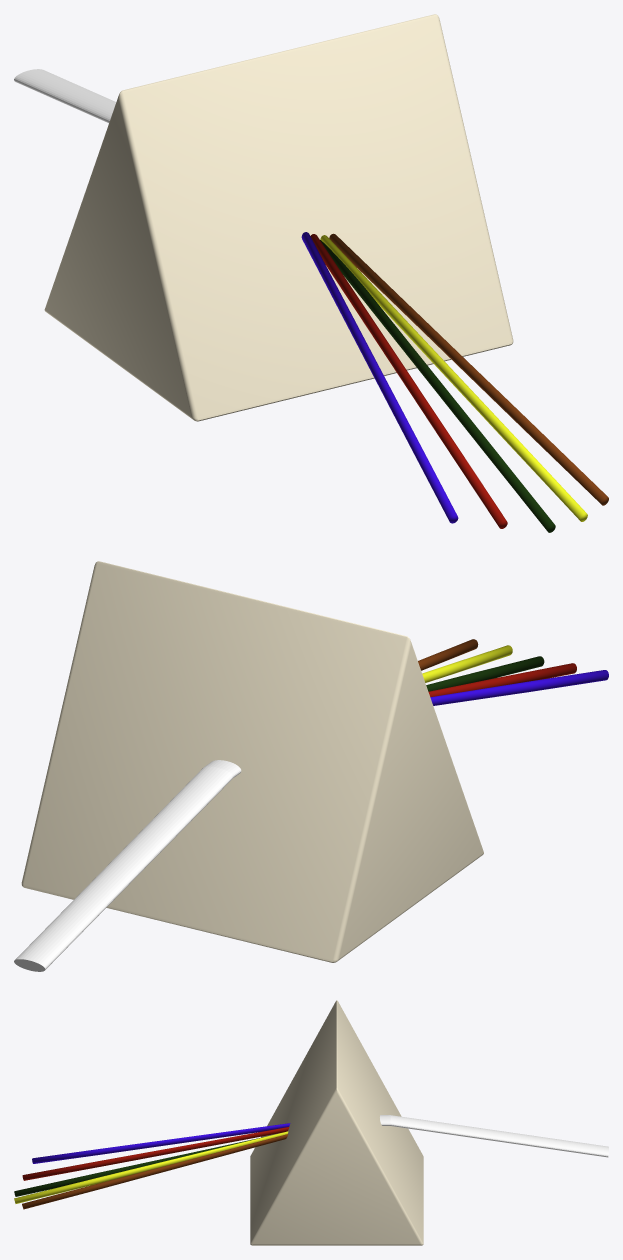
File: Prism_002.fbx
3 views of the same model, one above another, from view 1: azimuth 30°, elevation 25°; view 2: azimuth 150°, elevation 25°; view 3: azimuth 270°, elevation 25° (orthographic). The views are drawn at different scales.
Parts seen in each view (by area): view 1: Cube, Object001, Object002, Object003, Object004, Object005, Cylinder; view 2: Cube, Cylinder, Object005, Object004, Object003, Object002, Object001; view 3: Cube, Cylinder, Object001, Object004, Object005, Object002, Object003.
Boxes of the visible parts, x1,y1,x2,y2 form: Cube: (44,14,513,421); Object001: (329,233,608,505); Object002: (320,235,587,521); Object003: (320,240,555,532); Object004: (310,234,507,528); Object005: (301,232,458,523); Cylinder: (14,69,116,123); Cube: (21,561,483,962); Cylinder: (14,760,241,971); Object005: (430,670,608,705); Object004: (428,663,576,696); Object003: (426,656,544,691); Object002: (422,645,512,682); Object001: (418,639,478,670); Cube: (250,1000,423,1245); Cylinder: (380,1115,608,1157); Object001: (22,1134,288,1209); Object004: (22,1127,289,1180); Object005: (32,1123,290,1163); Object002: (14,1131,288,1203); Object003: (14,1137,262,1196).
Size of what is drawn, in the model's own units: 95.17 by 78.17 by 267.
